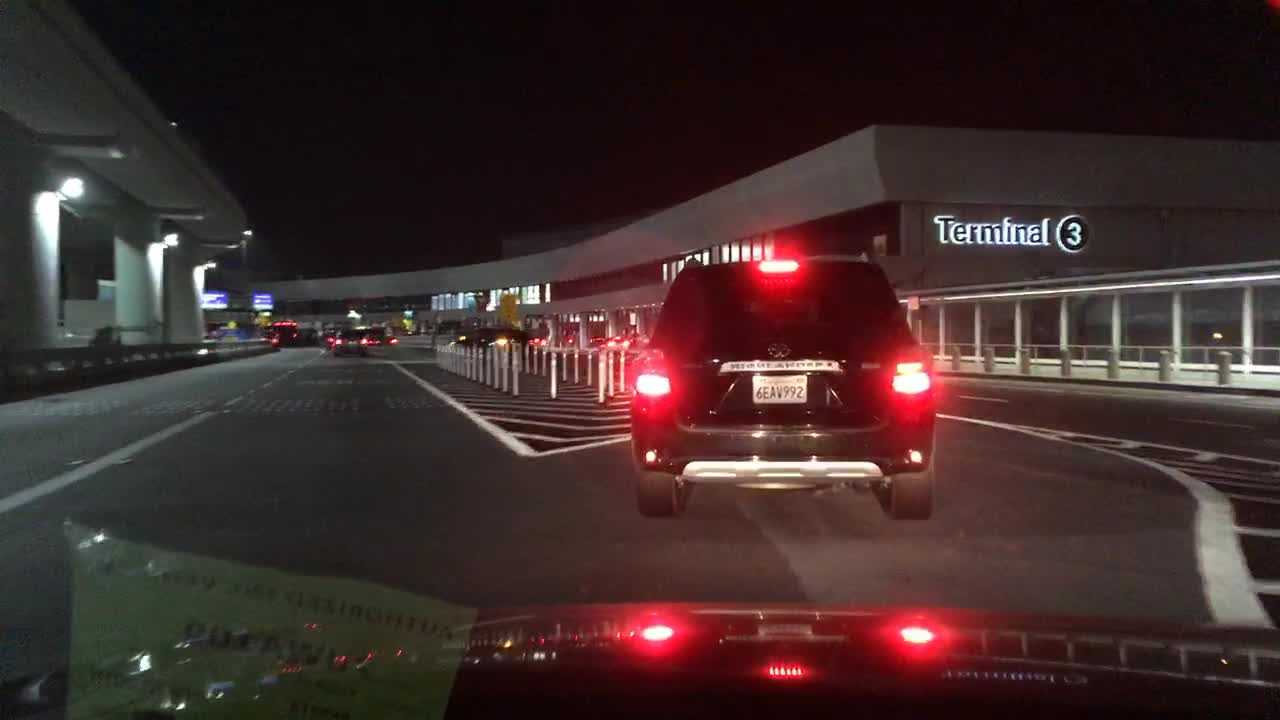car: (625, 254, 939, 522), (449, 326, 531, 361), (330, 328, 369, 356), (585, 335, 641, 352), (526, 332, 551, 362), (371, 333, 402, 347), (296, 328, 317, 345), (320, 329, 338, 348), (257, 324, 272, 338), (587, 336, 607, 344)
traffic sign: (501, 291, 518, 323)
